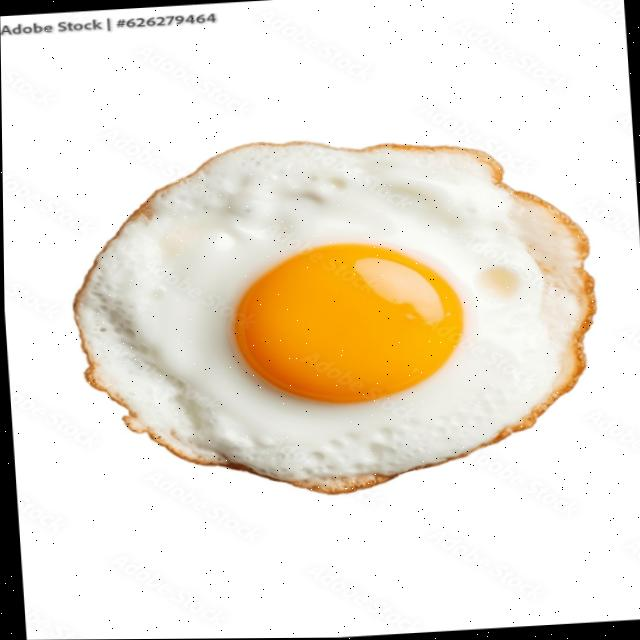Egg: (74, 143, 593, 495)
